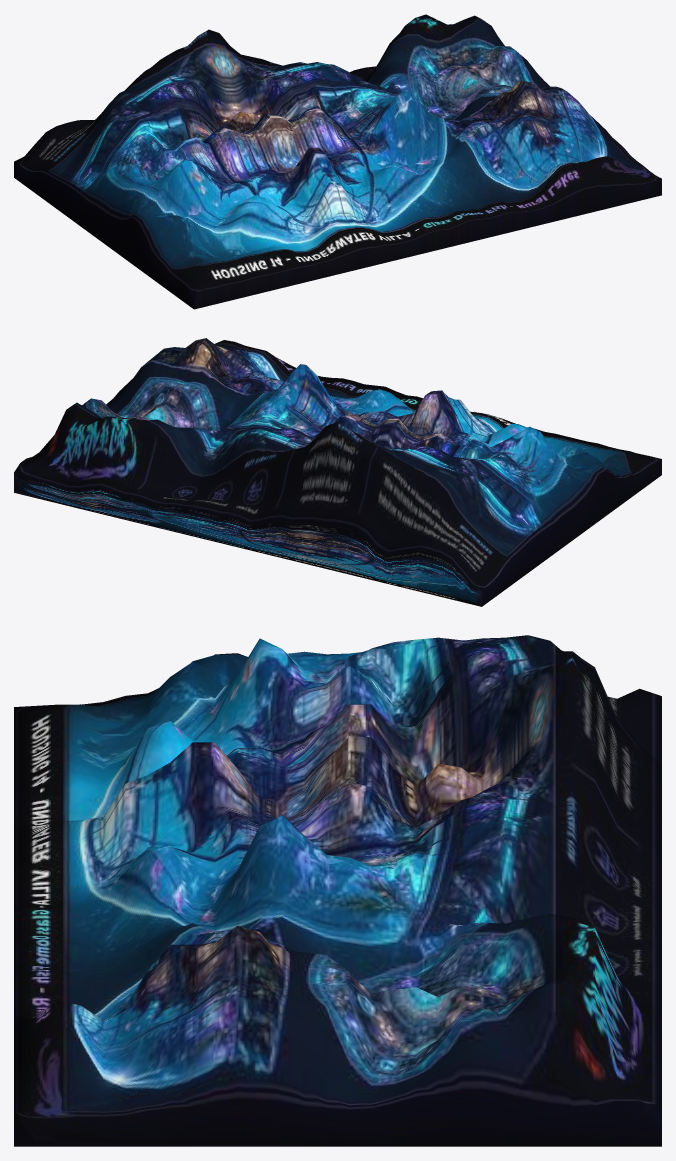
File: HOUSING_14_Underwater_Villa.glb
The picture shows the model from 3 angles, top to bottom: view 1: azimuth 30°, elevation 25°; view 2: azimuth 150°, elevation 25°; view 3: azimuth 270°, elevation 25°; orthographic projection. The views are drawn at different scales.
Parts seen in each view (by area): view 1: HOUSING_14_Underwater_Villa; view 2: HOUSING_14_Underwater_Villa; view 3: HOUSING_14_Underwater_Villa.
Boxes of the visible parts, x1,y1,x2,y2 form: HOUSING_14_Underwater_Villa: (14,14,661,309); HOUSING_14_Underwater_Villa: (14,338,661,606); HOUSING_14_Underwater_Villa: (14,635,661,1146).
Size of the model in its own units: 2 by 0.51 by 1.33.
1 material, 1 textured.
